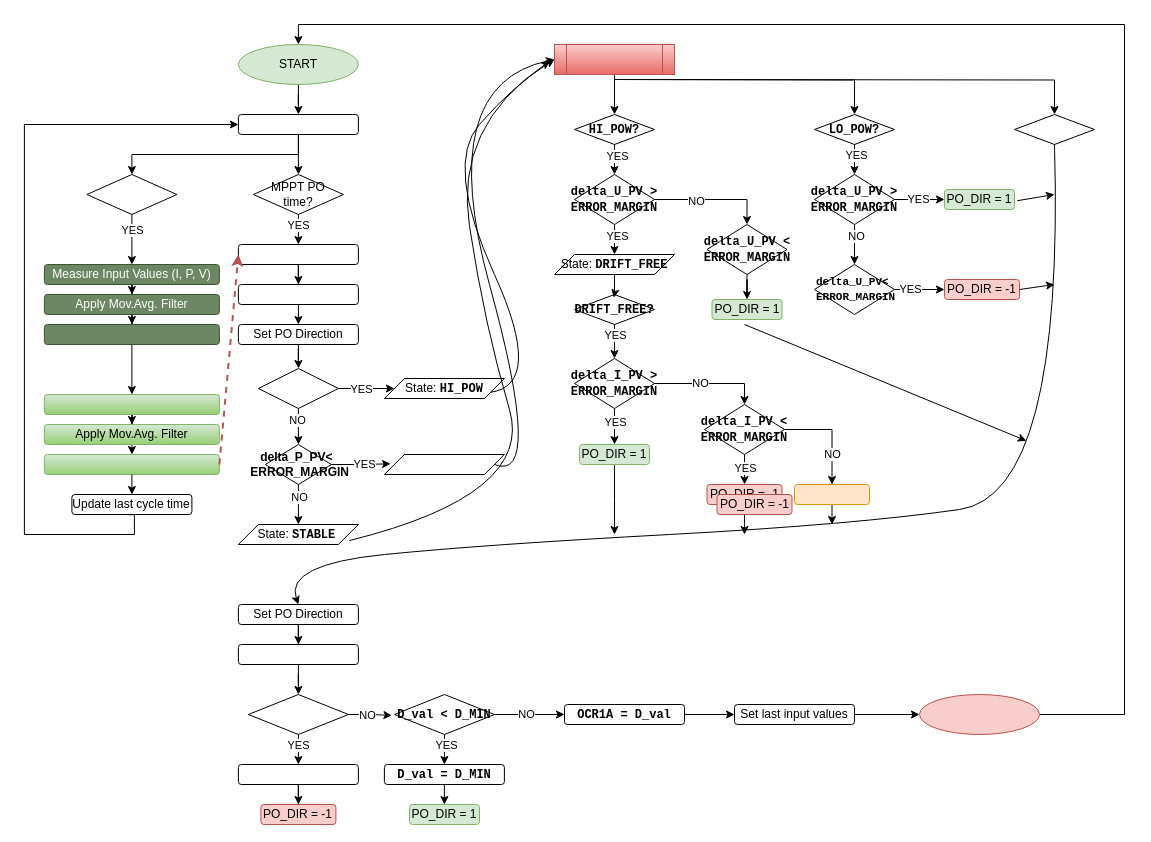
This 1151x842 diagram has some shape labels left out. The shapes that lost their labels are listed below. From the top down, each one's box as (x1, y1, x2, y2) in pixels, then its label:
(554, 44, 674, 74): STATE MACHINE
(237, 114, 358, 134): Get Timer
(1014, 114, 1094, 144): STABLE ?
(86, 174, 177, 214): Measure time?
(237, 244, 358, 264): Get output data
(237, 284, 358, 304): Calculate delta
(43, 324, 219, 344): Save Input Values
(43, 394, 219, 414): Measure Output Values (I, P, V)
(257, 368, 338, 408): delta_P_PV > ERROR_MARGIN
(43, 454, 219, 474): Save Output Values
(383, 454, 504, 474): State: LO_POW
(794, 484, 870, 504): PO_DIR = 0
(237, 644, 358, 664): Calc Duty Cycle
(247, 694, 348, 734): D_val > D_MAX
(918, 694, 1040, 734): END
(237, 764, 358, 784): D_val = D_MAX
